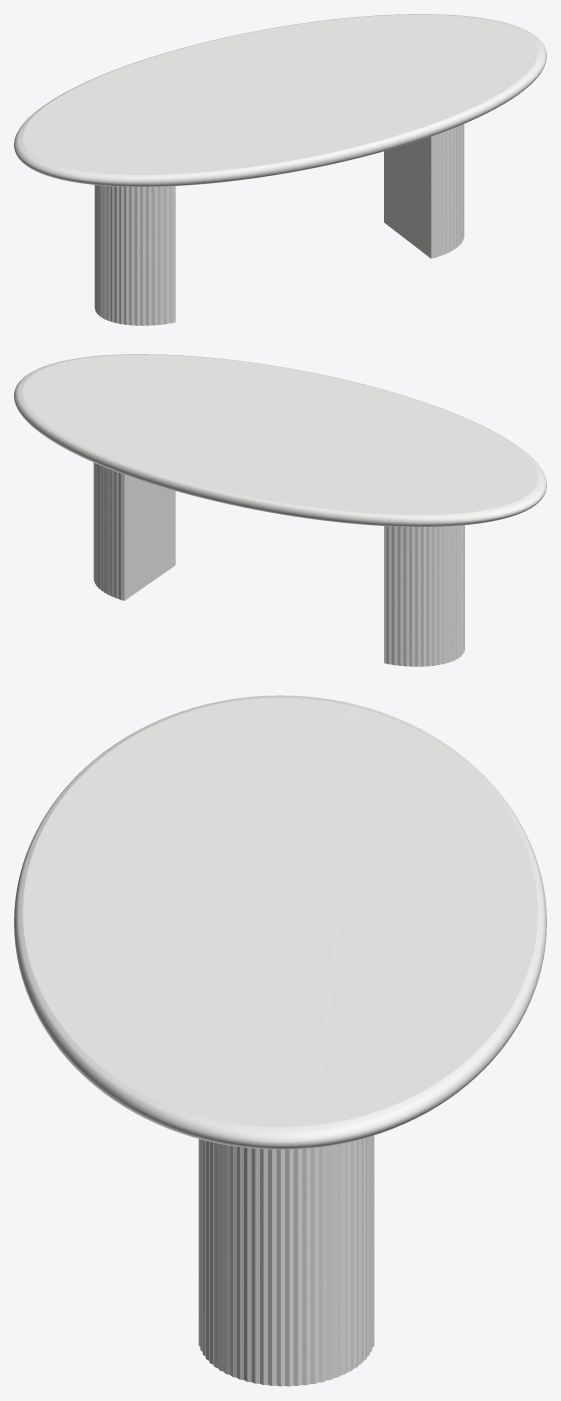
The model's file is purewhite_ellips_round_flute.glb.
3 views of the same model, one above another, from view 1: azimuth 30°, elevation 25°; view 2: azimuth 150°, elevation 25°; view 3: azimuth 270°, elevation 25° (orthographic). The views are drawn at different scales.
Parts seen in each view (by area): view 1: round_ellips, flute; view 2: round_ellips, flute; view 3: round_ellips, flute.
Boxes of the visible parts, <box> form: round_ellips: <box>14,14,546,186</box>; flute: <box>94,124,464,325</box>; round_ellips: <box>14,354,546,526</box>; flute: <box>93,463,464,666</box>; round_ellips: <box>14,695,546,1149</box>; flute: <box>198,1135,374,1386</box>.
Size of the model in its own units: 7.5 by 2.5 by 3.8.
Materials: 1 (1 with a texture image).
